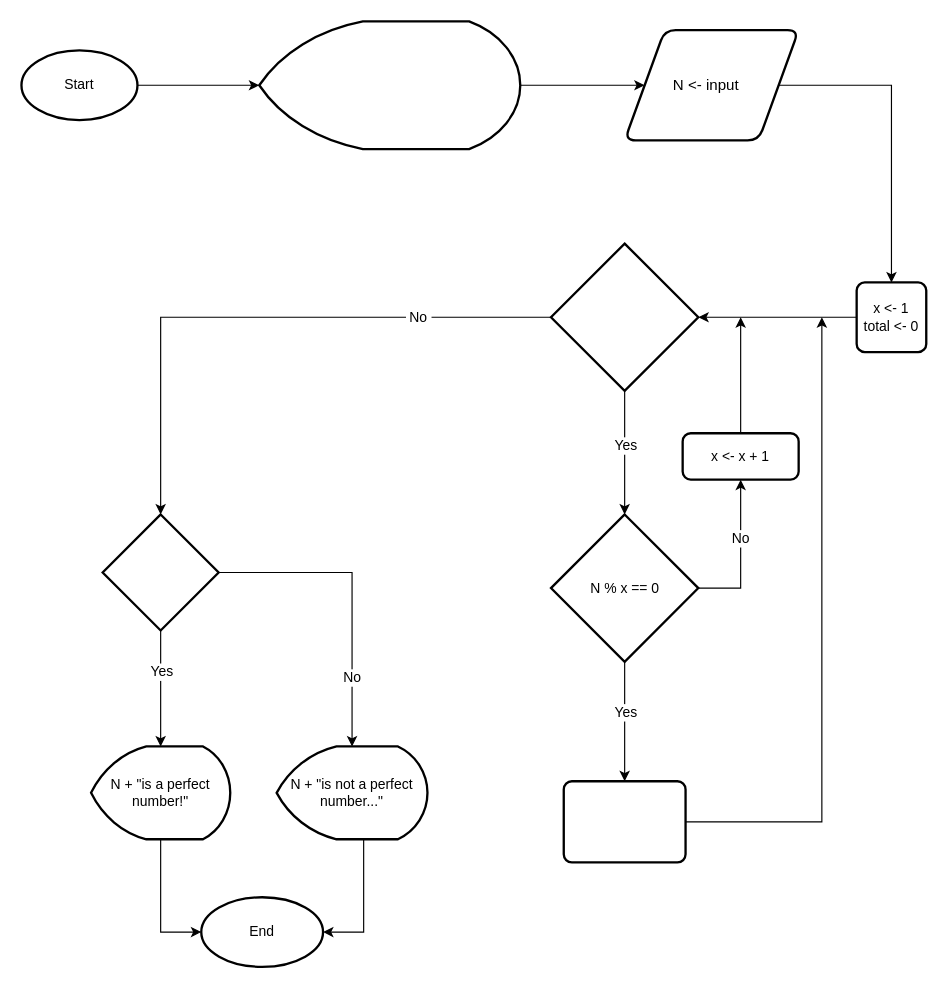
Some shapes in this 947 by 987 pixel diagram are drawn without their labels. The box of each missing label's shape, as (x1, y1, x2, y2) in pixels:
"Enter an integer value for N: ": (258, 20, 521, 150)
total <- total + x x <- x + 1: (562, 780, 686, 863)
total == N: (101, 513, 219, 631)
x < N: (549, 242, 699, 392)
